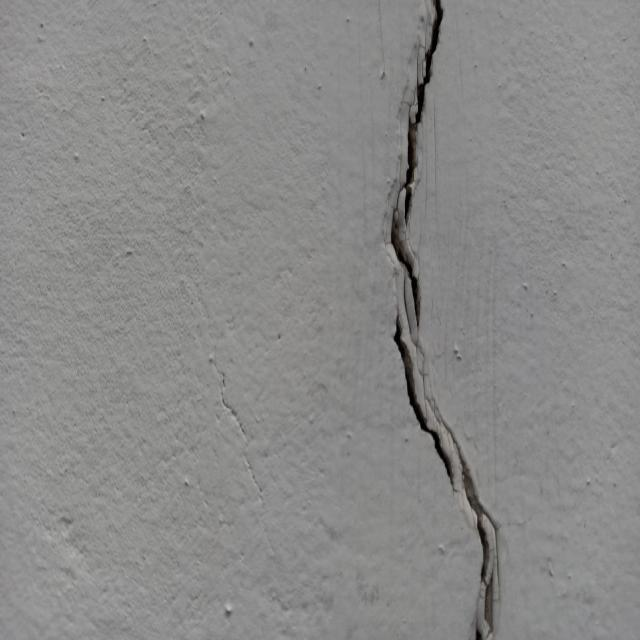SurfaceCrack: (345, 0, 516, 639)
